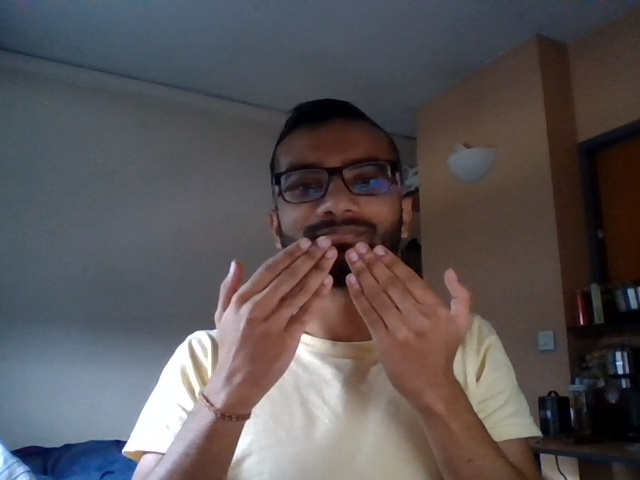Thanks: (164, 232, 484, 382)
